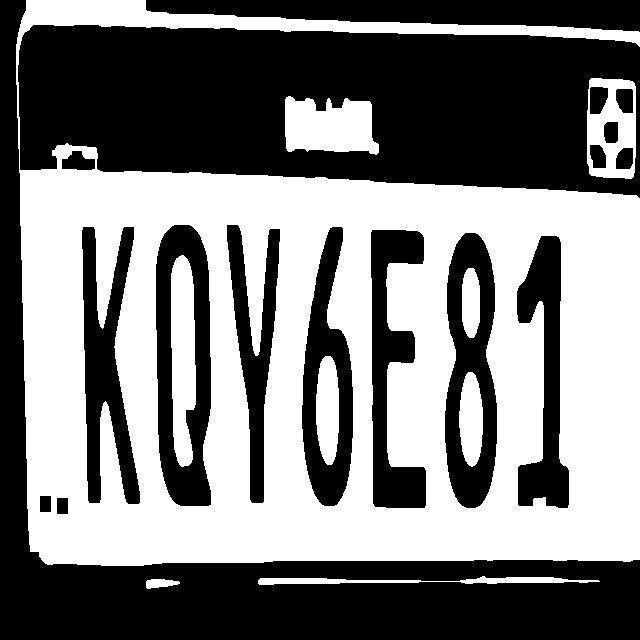1: (511, 232, 587, 517)
6: (294, 222, 361, 509)
8: (437, 229, 506, 513)
e: (359, 227, 437, 516)
k: (74, 225, 152, 497)
q: (151, 223, 234, 514)
y: (213, 222, 299, 514)
